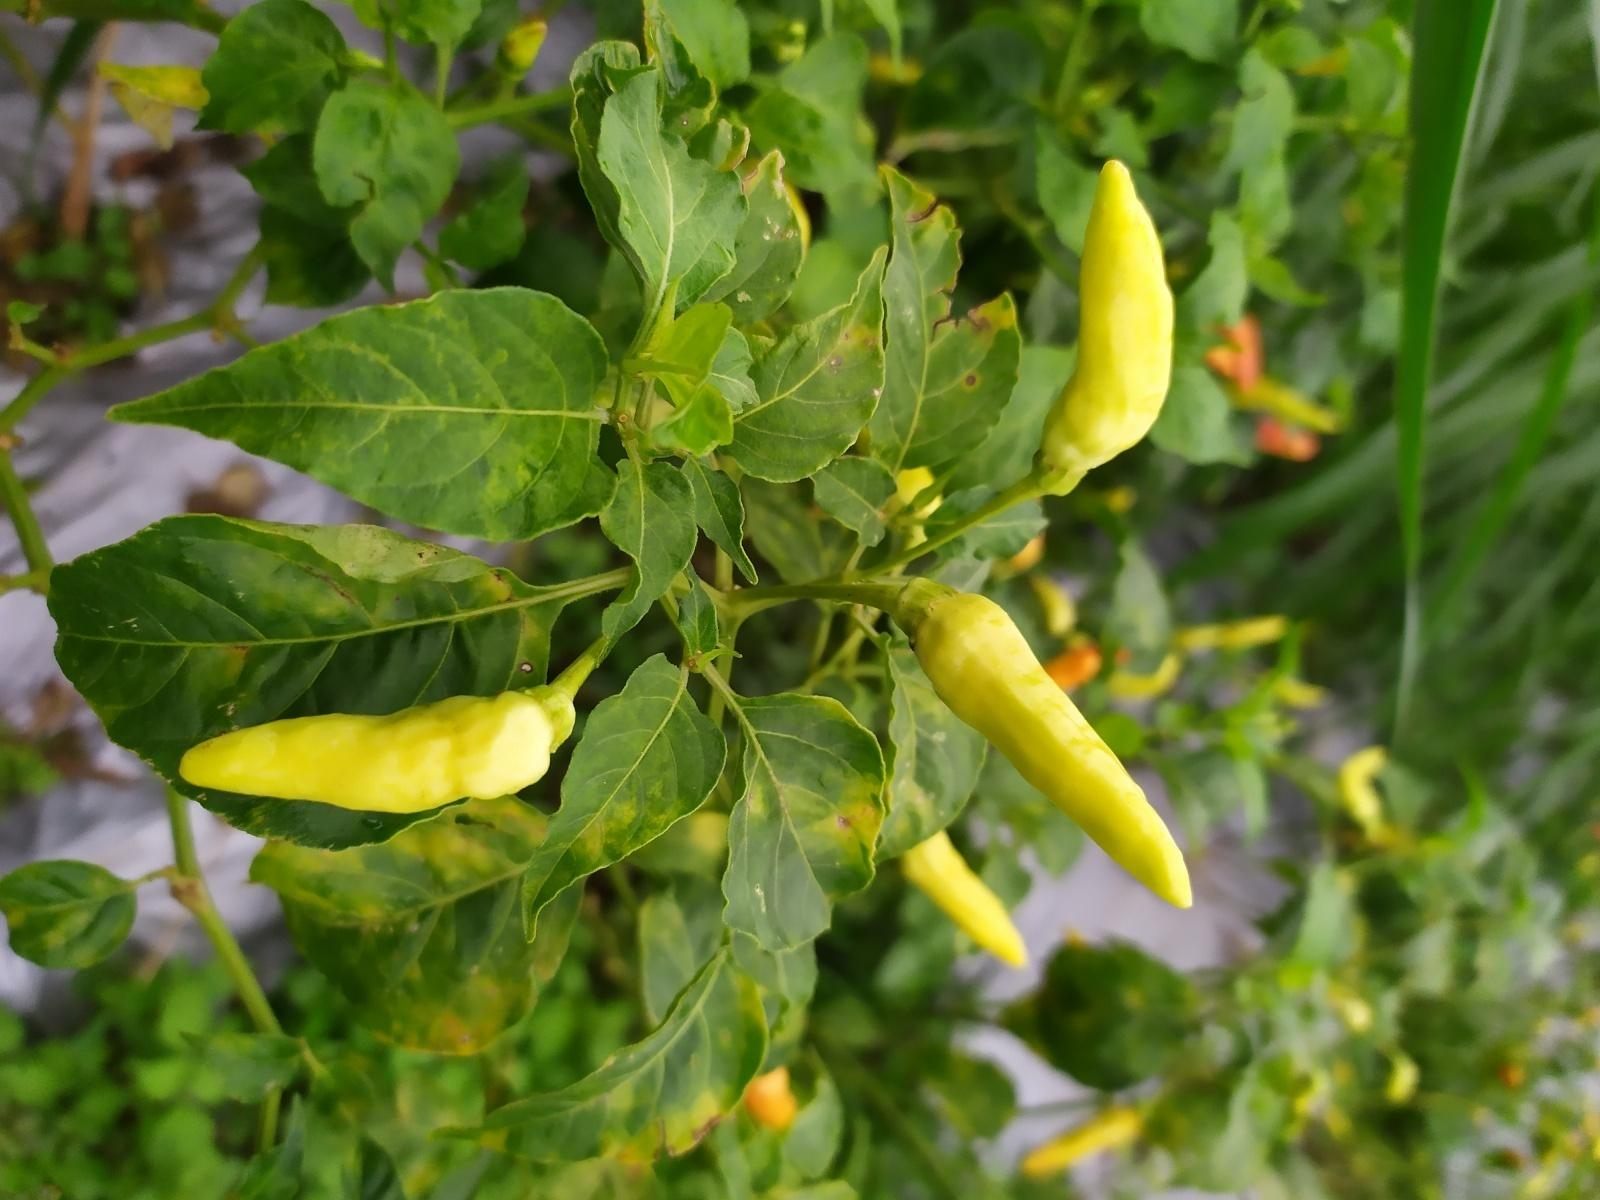cabai_normal: (913, 590, 1194, 910), (178, 689, 556, 814), (1038, 158, 1177, 480), (903, 831, 1026, 971)
